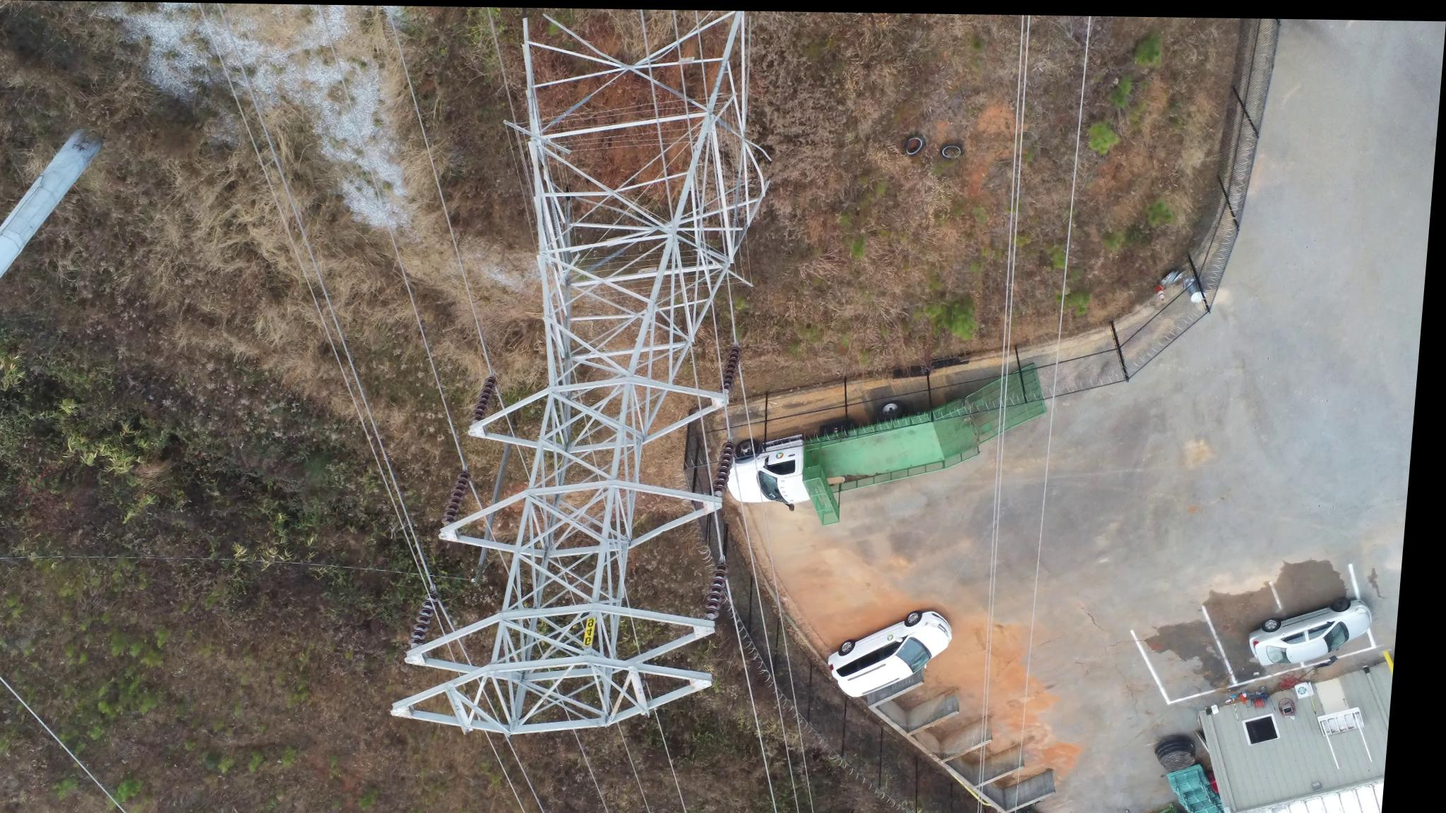tower: (386, 7, 796, 745)
